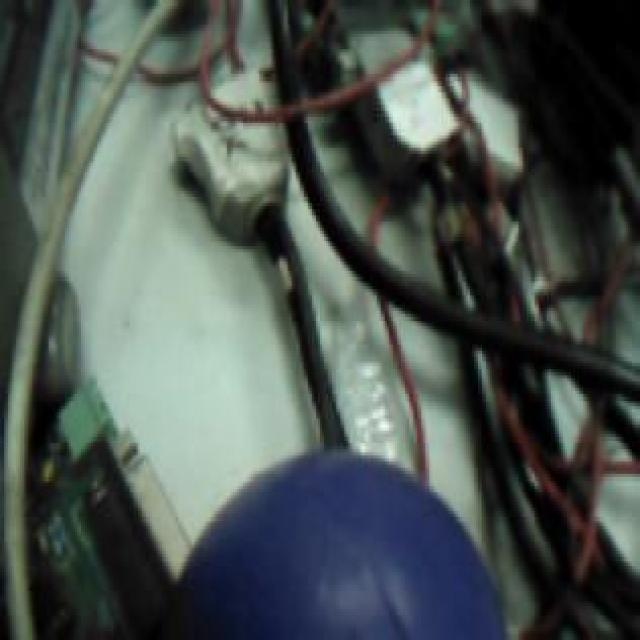BallPurple: (179, 443, 508, 640)
